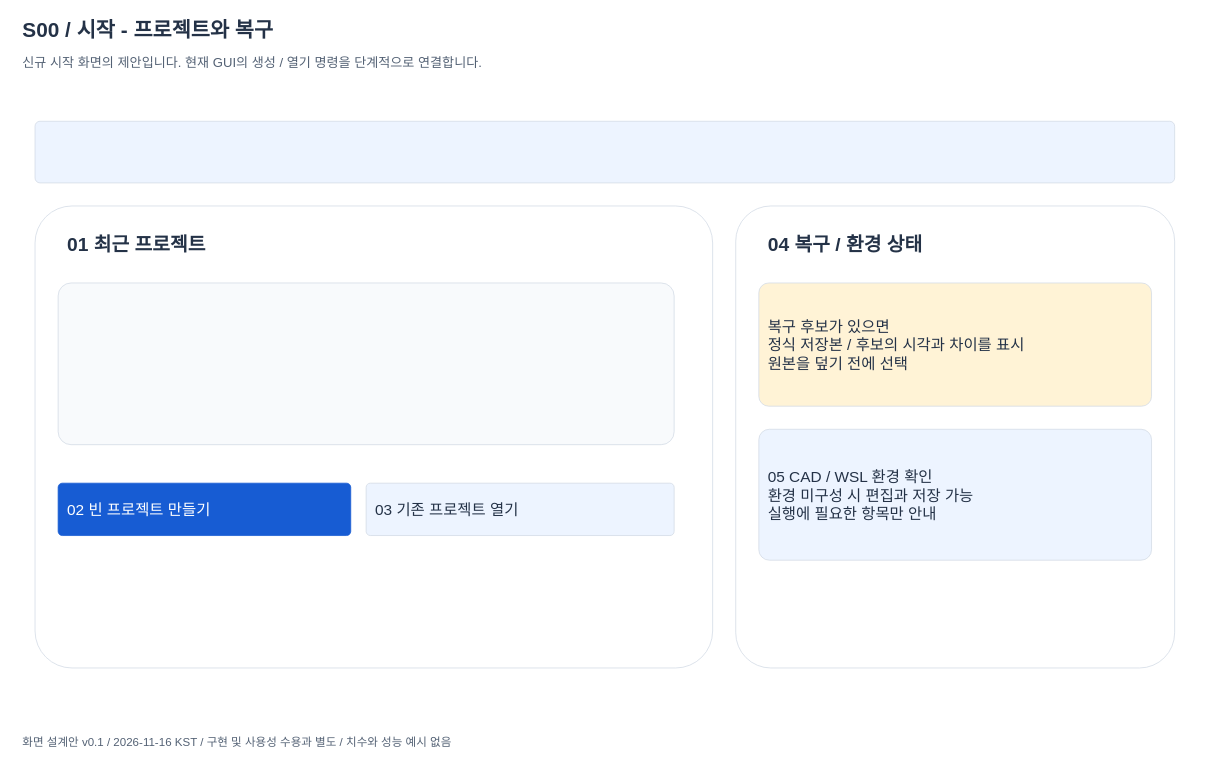
Some shapes in this 1209 by 767 pixel diagram are drawn without their labels. Here are the shapes that lost their labels. From the top down, the box of each, then its label:
(34, 121, 1175, 183): TraceWave Studio 새 프로젝트 프로젝트 열기 환경 진단
(57, 282, 674, 445): 아직 등록된 최근 프로젝트가 없습니다. 프로젝트 이름과 저장 위치부터 지정하세요. 물성 / 주파수 / 포트 값은 자동으로 채우지 않습니다.
